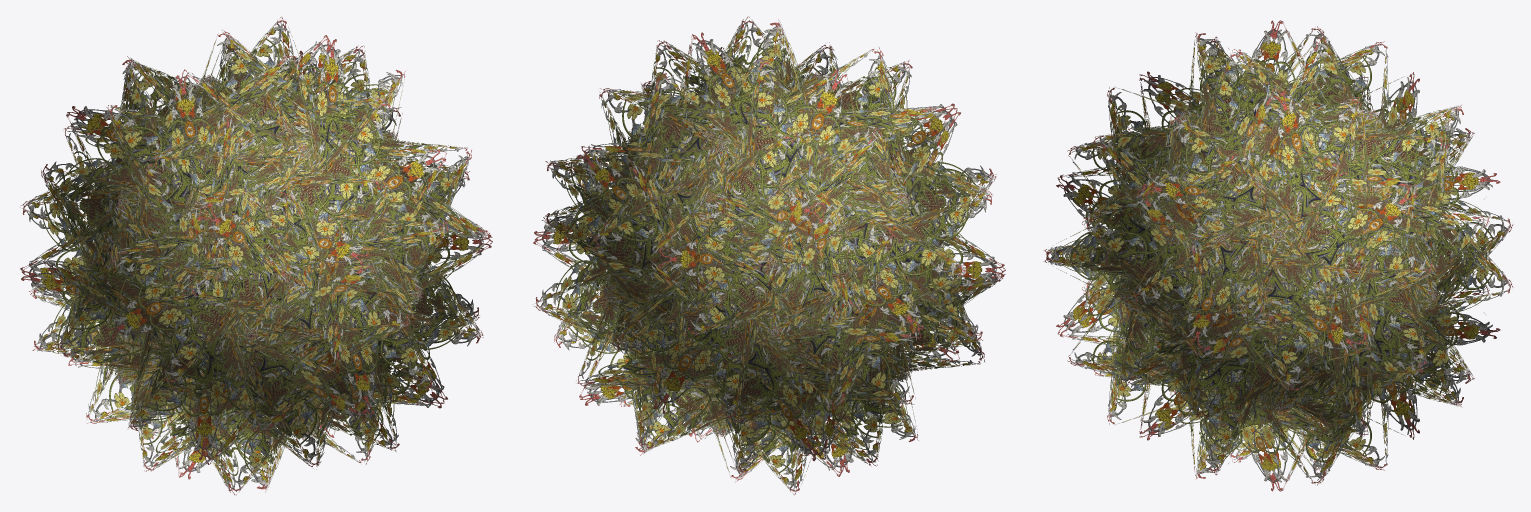
Rendered from 7GreatInvertedPentagonalHexecontahedron.gltf.
The picture shows the model from 3 angles, left to right: view 1: azimuth 30°, elevation 25°; view 2: azimuth 150°, elevation 25°; view 3: azimuth 270°, elevation 25°; orthographic projection.
Parts seen in each view (by area): view 1: GreatInvertedPentagonalHexecontahedron8; view 2: GreatInvertedPentagonalHexecontahedron8; view 3: GreatInvertedPentagonalHexecontahedron8.
Boxes of the visible parts, box(x1,y1,x2,y2) form: GreatInvertedPentagonalHexecontahedron8: box(20, 16, 492, 495); GreatInvertedPentagonalHexecontahedron8: box(533, 16, 1005, 495); GreatInvertedPentagonalHexecontahedron8: box(1043, 20, 1513, 491).
Size of the model in its own units: 1.13 by 1.13 by 1.13.
1 material, 1 textured.
